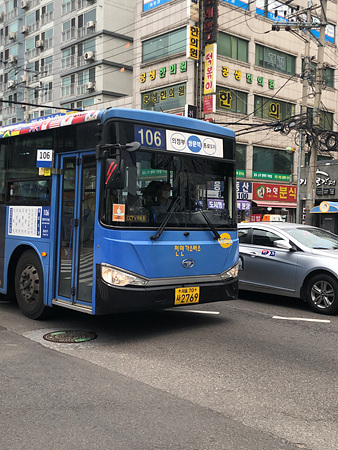bnum: (135, 124, 165, 147)
